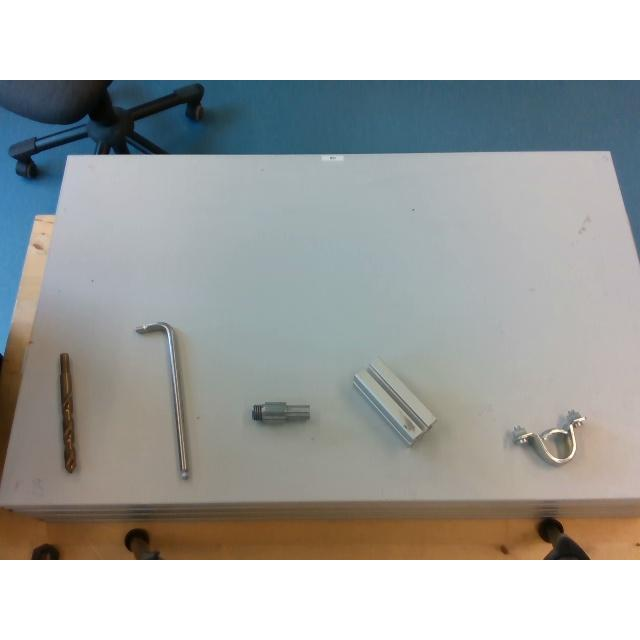AllenKey: (134, 322, 188, 478)
Axis2: (251, 401, 309, 421)
Drill: (60, 352, 76, 472)
Housing: (513, 410, 585, 466)
S40_40_G: (354, 357, 434, 443)
